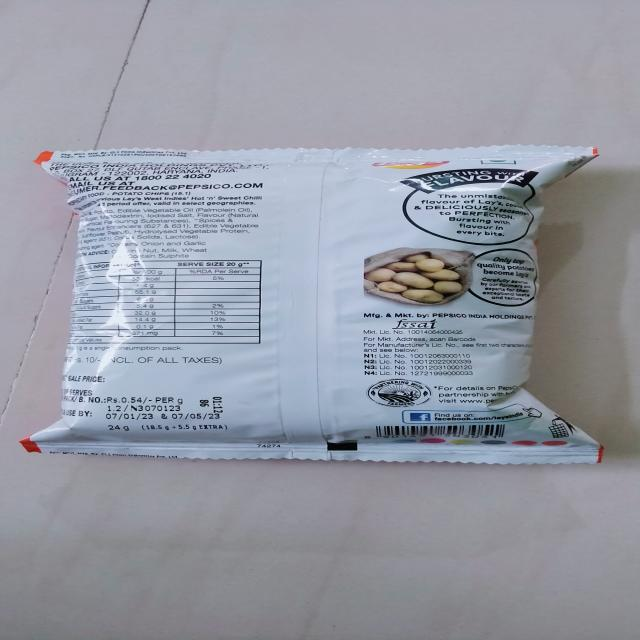lays: (32, 130, 604, 478)
